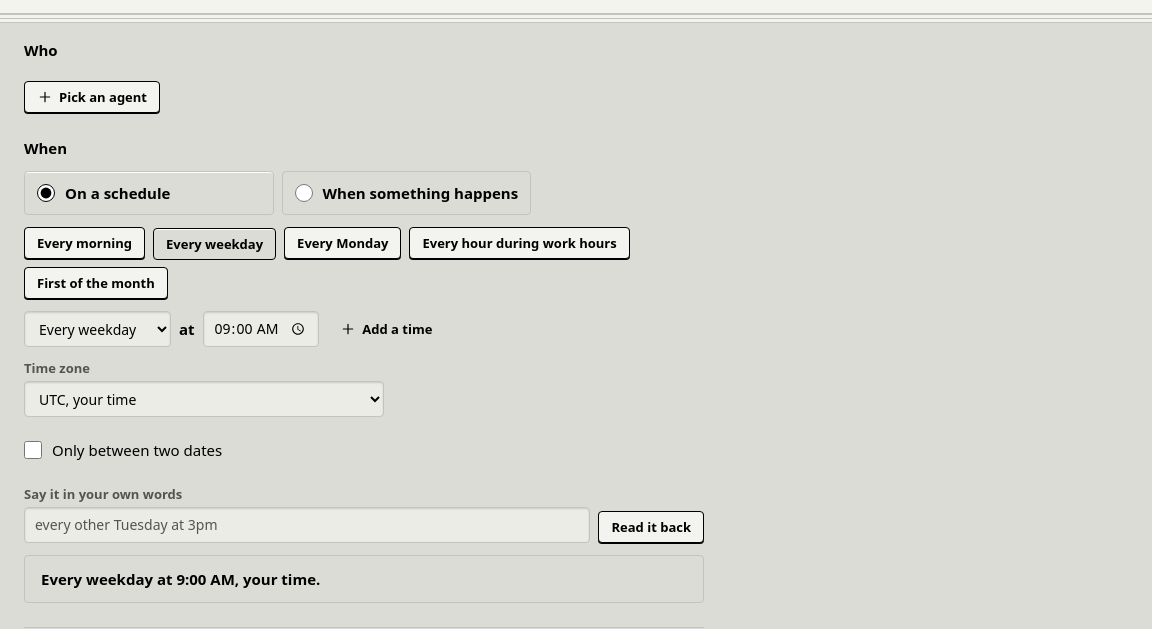
Check first › writes the check with the agent of the editor, says how long it waits, and stops on Cancel
Click the button "Pick an agent".
click(92, 97)  # box x1=24 y1=81 x2=160 y2=113
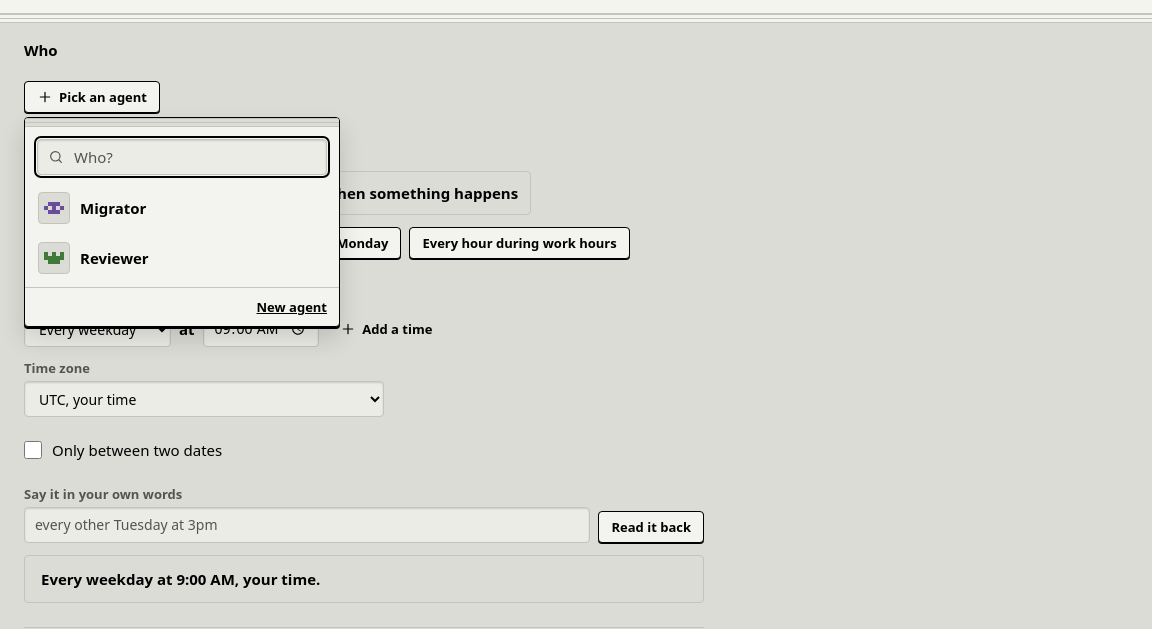
Click the button "Migrator".
click(54, 208)  # box x1=29 y1=183 x2=335 y2=233
(page scrolled)
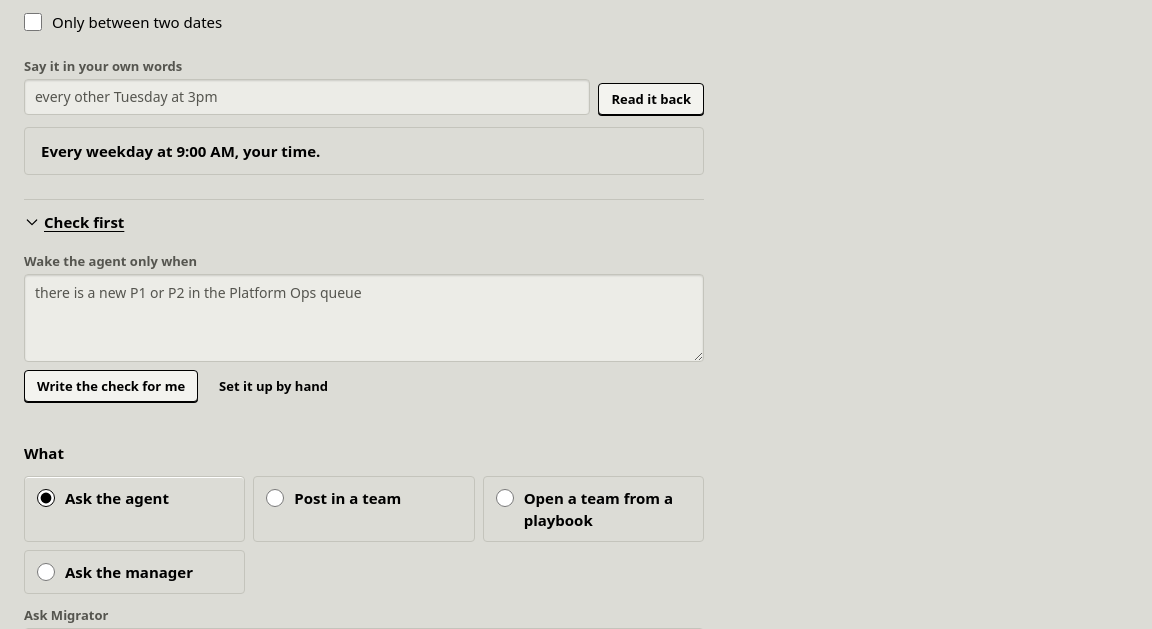
Type "a new P1 shows up" into the text box labelled "Wake the agent only when".
click(364, 318); type("a new P1 shows up")  # box x1=24 y1=274 x2=704 y2=362
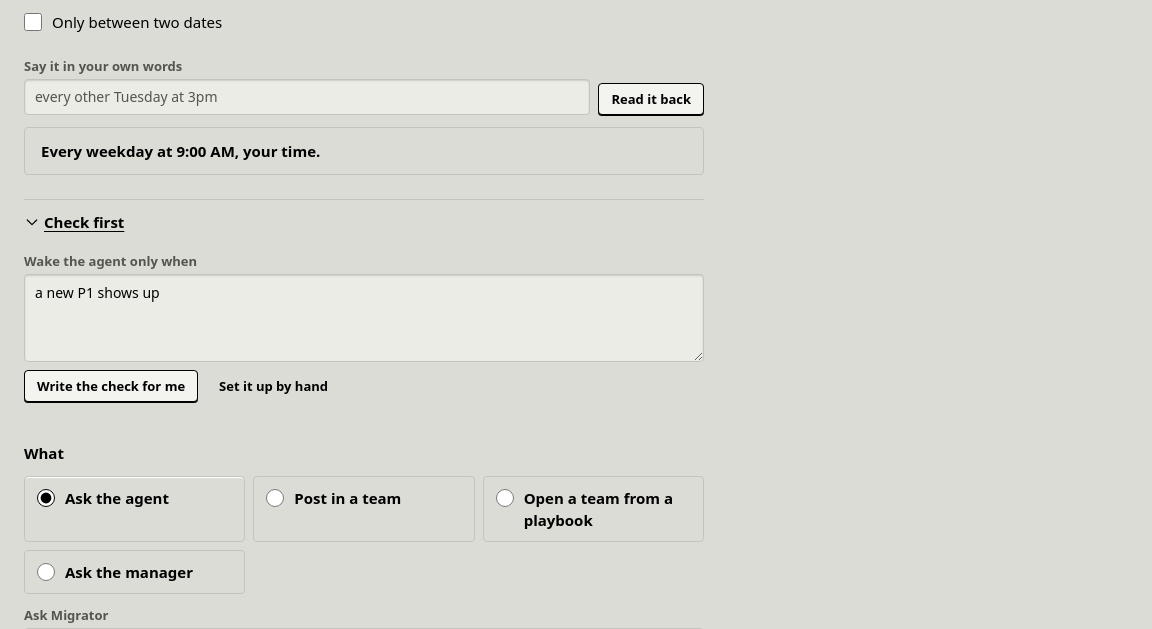
Click the button "Write the check for me".
click(111, 386)  # box x1=24 y1=370 x2=198 y2=402
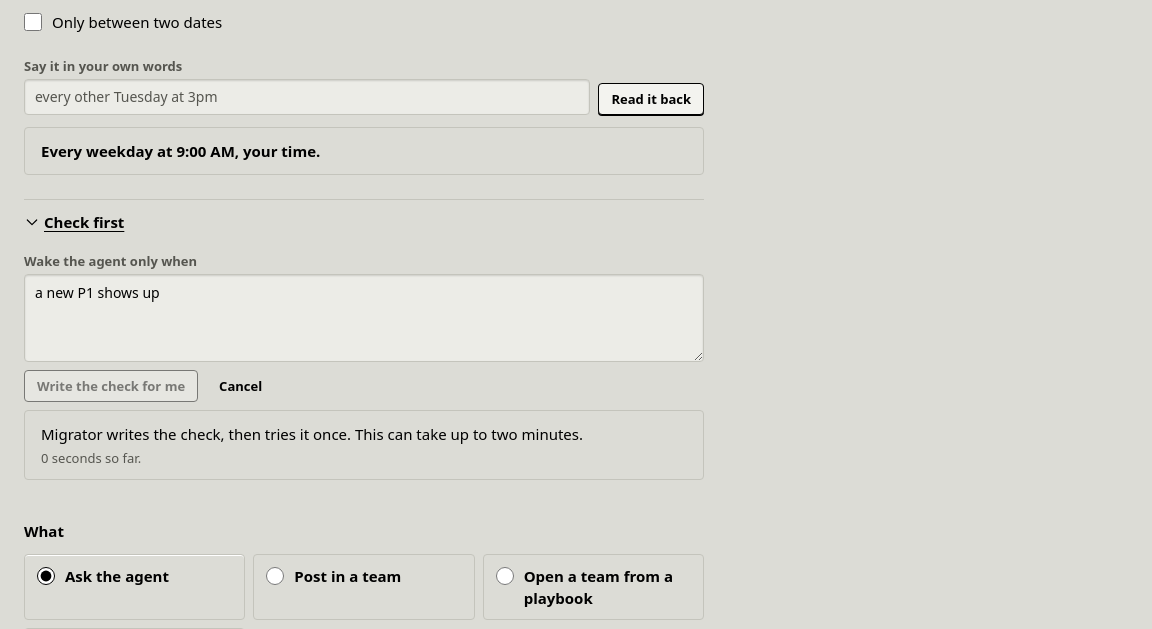
expect the button "Write the check for me" is disabled: met, box x1=24 y1=370 x2=198 y2=402
Click the button "Cancel".
click(241, 386)  # box x1=206 y1=370 x2=275 y2=402
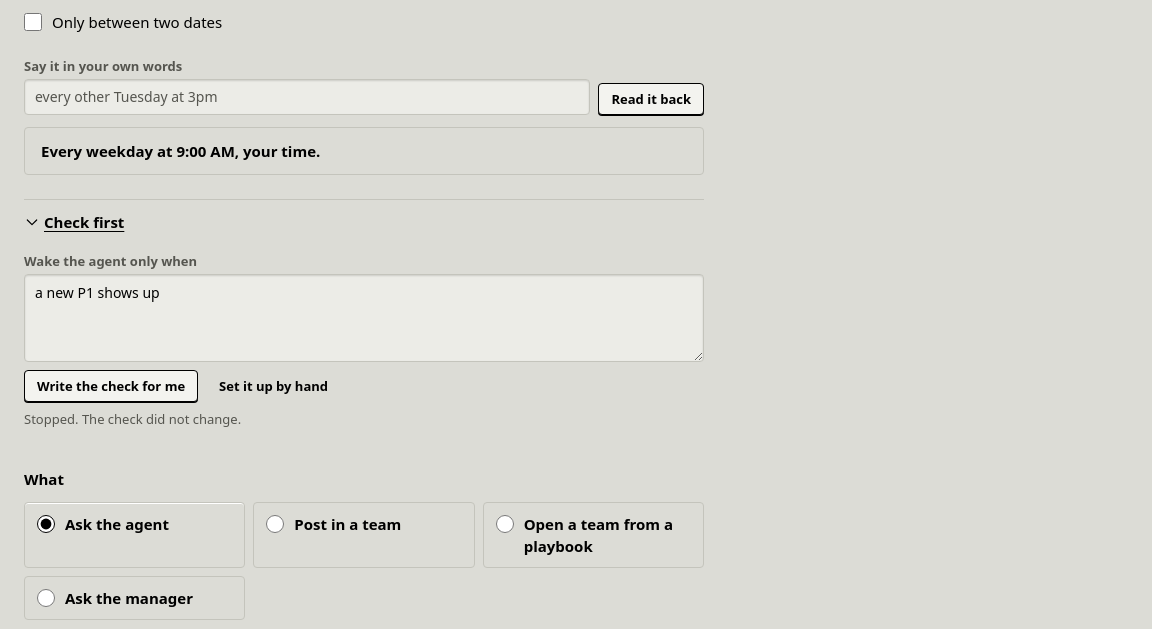
expect the message with class "duty-wait" is gone: met
expect the message "Stopped. The check did not change." is shown: met, box x1=24 y1=410 x2=241 y2=428
